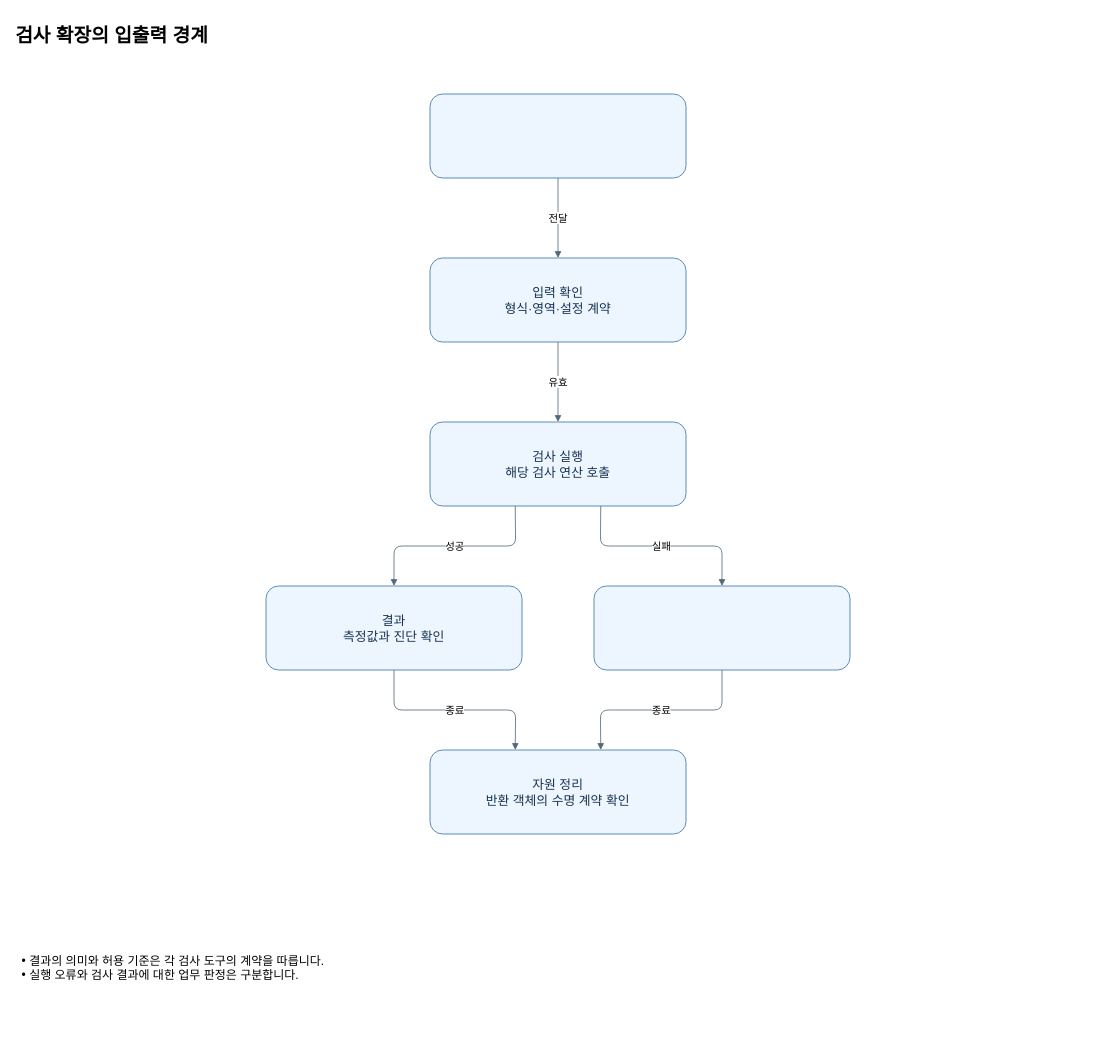
This 1115x1051 diagram has some shape labels left out. The box of each missing label's shape, as (x1, y1, x2, y2) in pixels:
검사 입력 영상과 필요한 설정: (429, 93, 686, 178)
오류 경로 실패 원인과 상태 확인: (593, 585, 850, 670)
